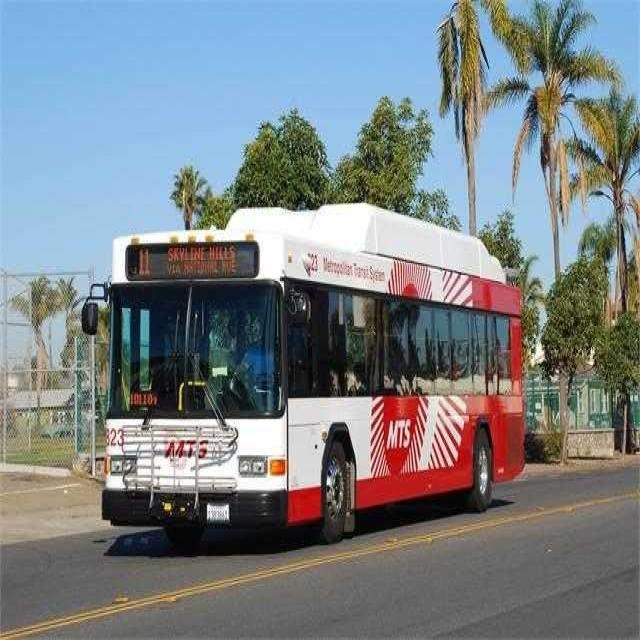Bus: (77, 188, 538, 544)
